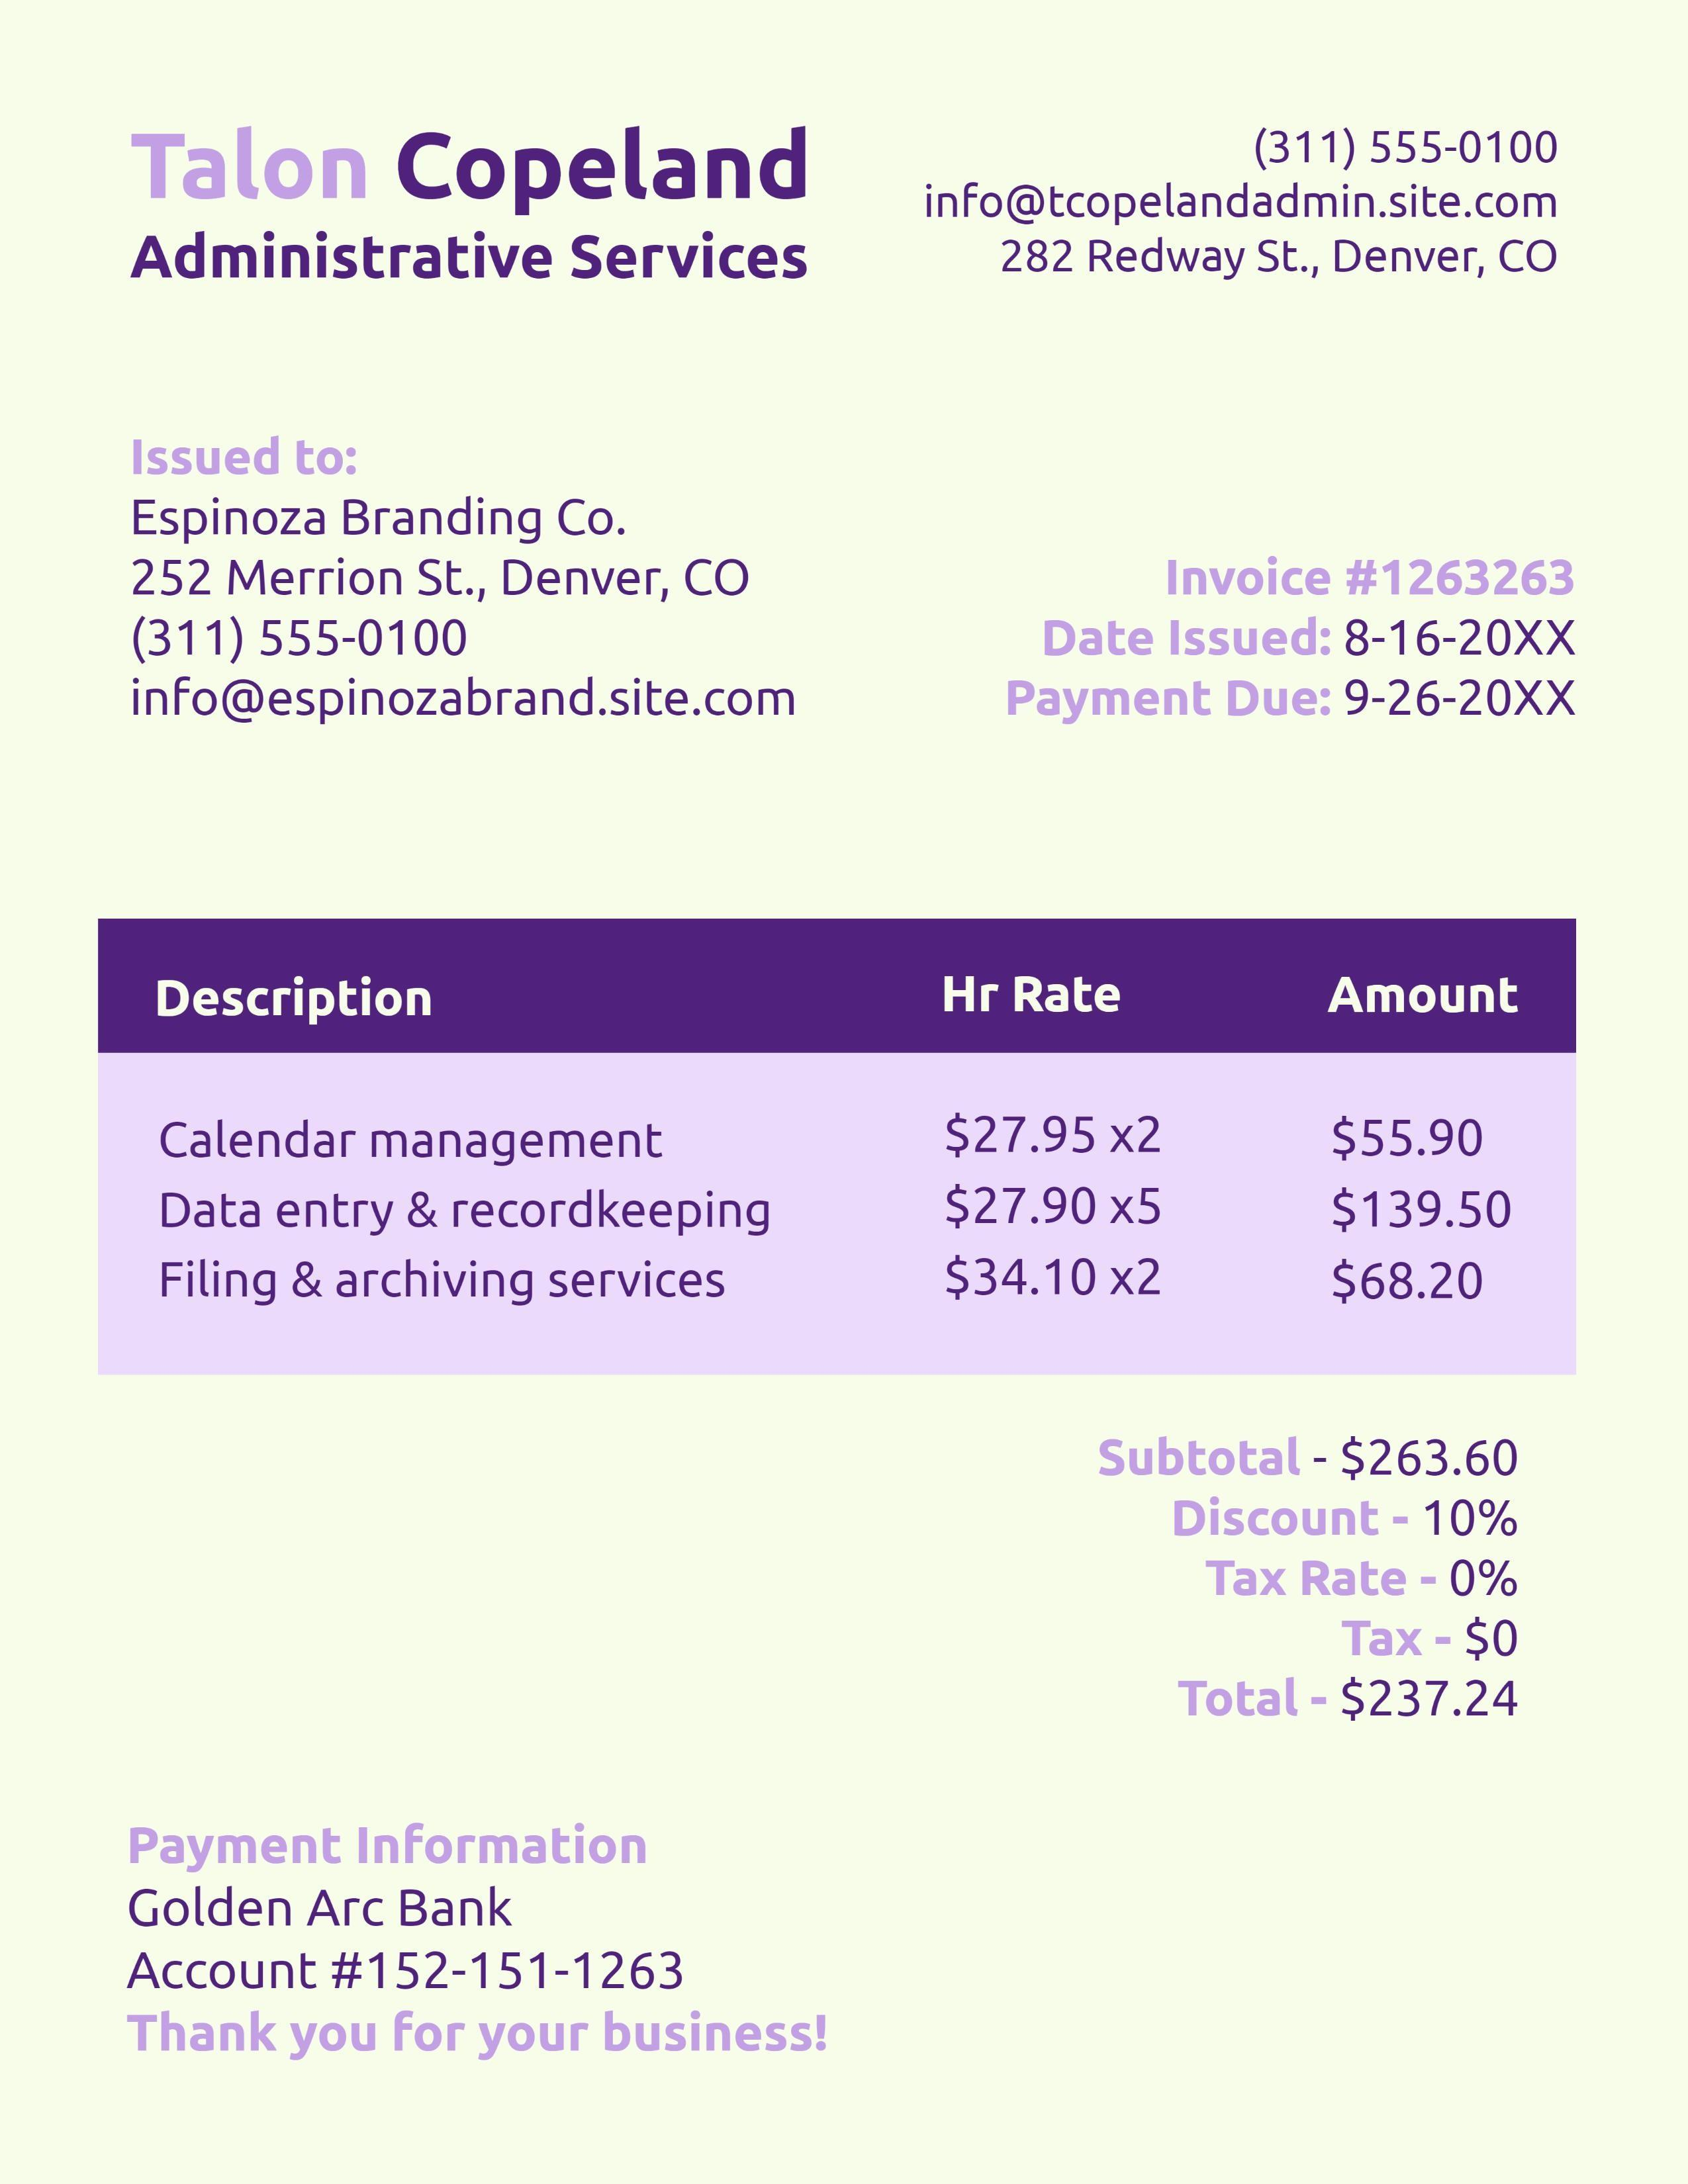ROI: (108, 918, 1551, 1361), (119, 418, 835, 743), (119, 112, 849, 312), (1082, 1420, 1548, 1734), (112, 1817, 766, 2005), (989, 544, 1612, 727)
